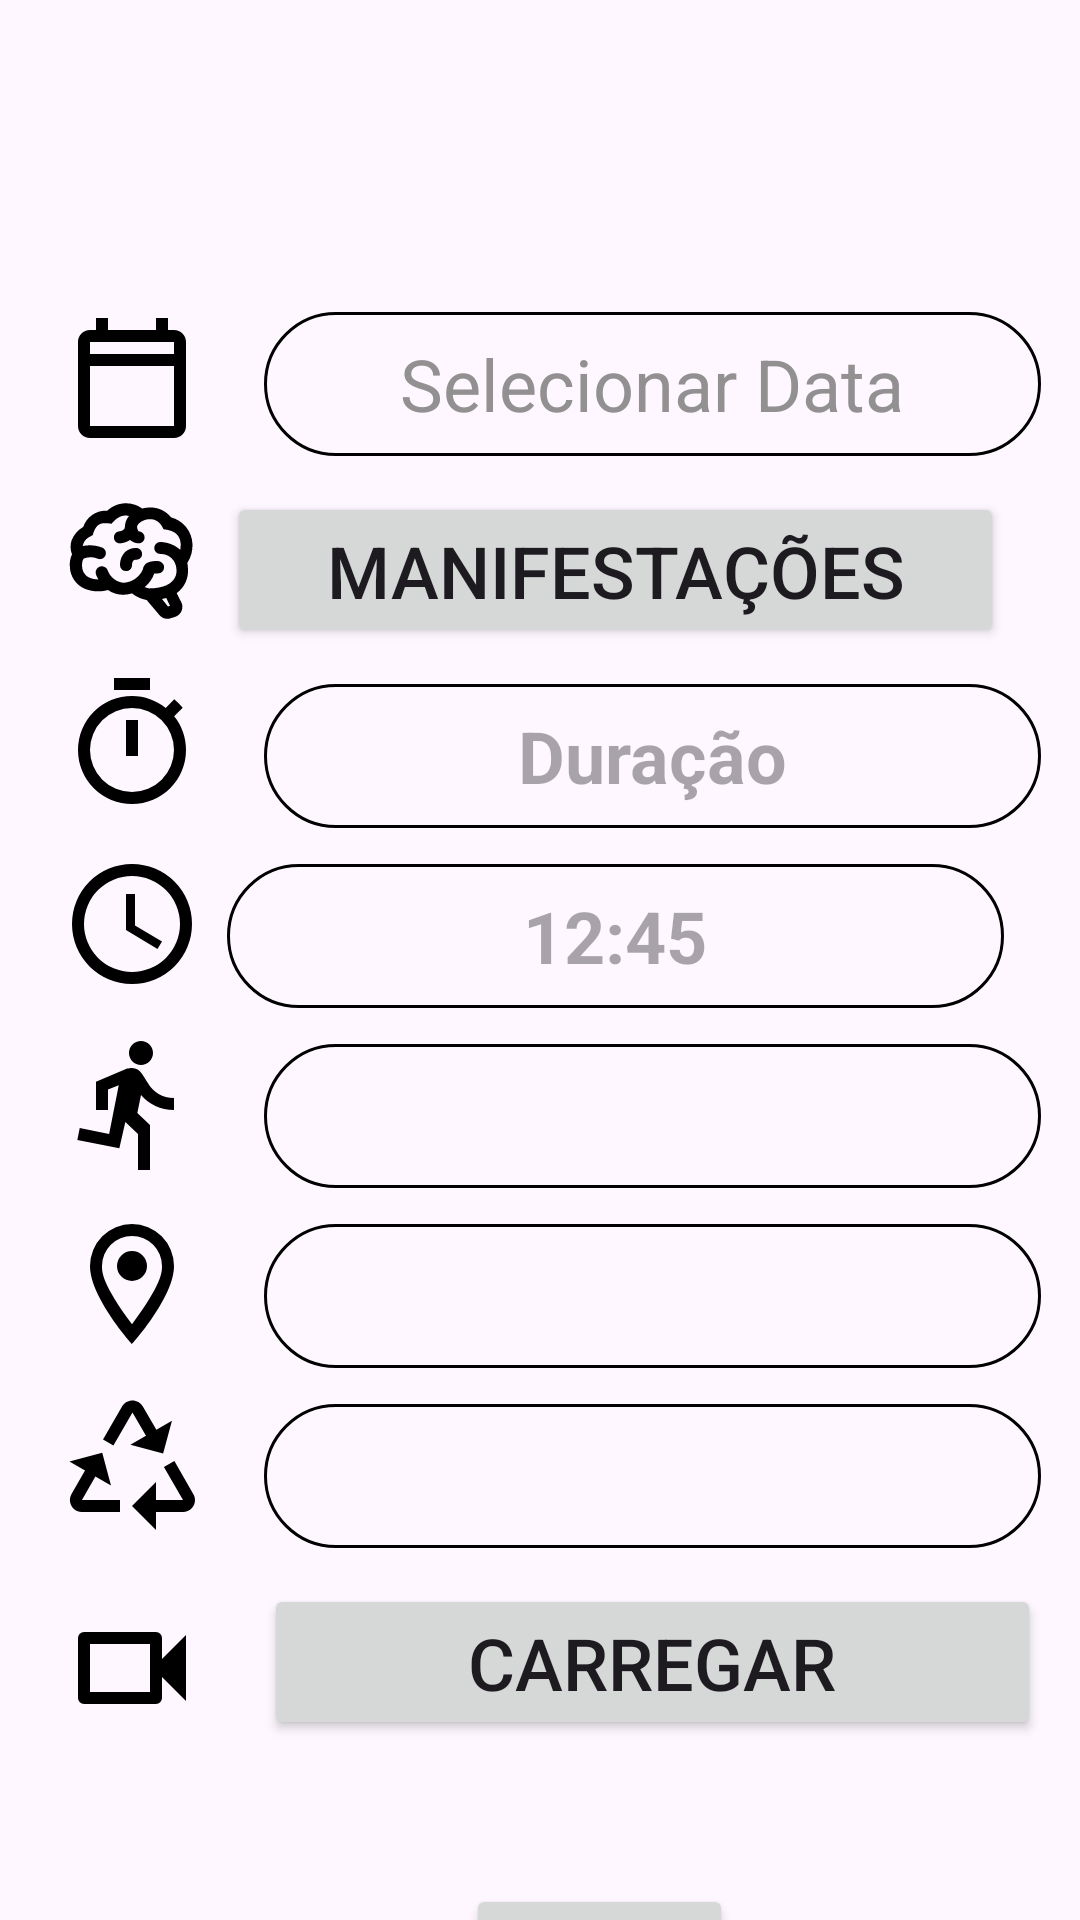

Icons on this 1080 × 1920 Android screen, each with the point to tap as (x,y):
brain: (131,561)
calendar blank: (132,378)
clock: (132,924)
map marker: (132,1284)
recycle variant: (132,1465)
run: (125,1105)
timer: (132,741)
video: (132,1668)
